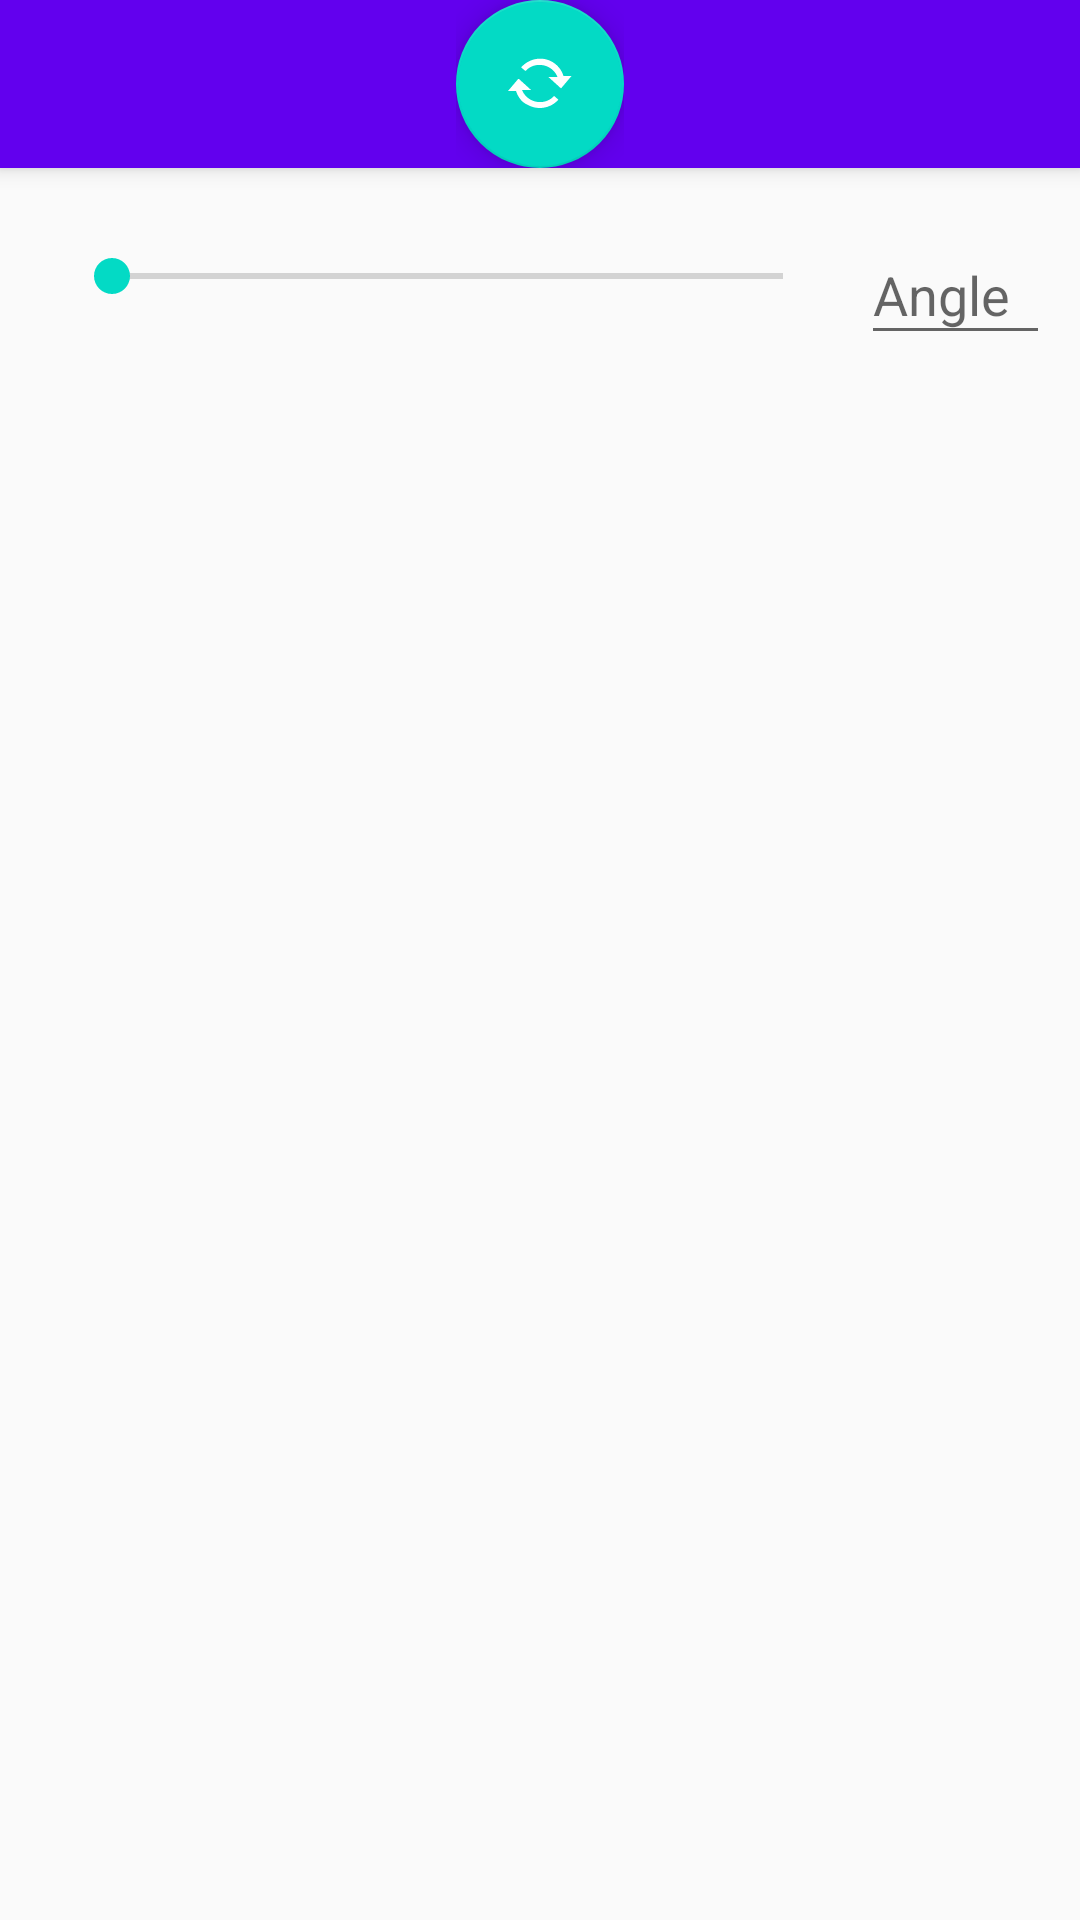

Icons on this 1080*1920 Android screen, each with the point to tap as point (x, y):
sync noanim: point (540, 84)
